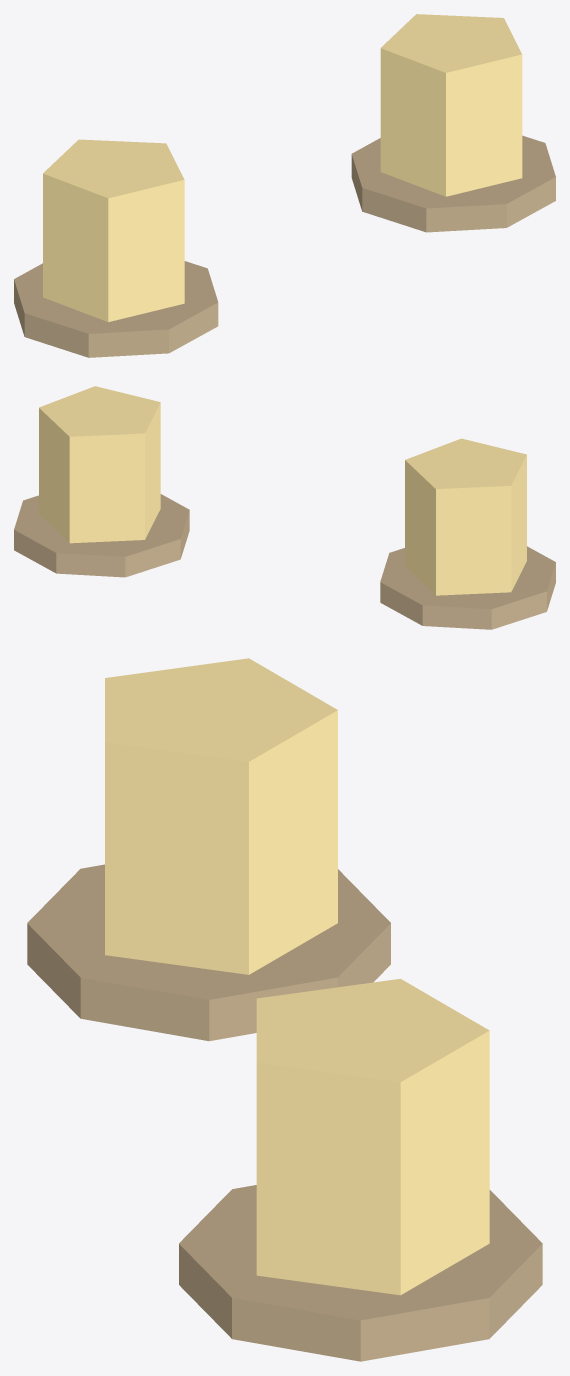
The model's file is SM_BidonFuego_v2_Dos_LOD1.fbx.
The picture shows the model from 3 angles, top to bottom: view 1: azimuth 30°, elevation 25°; view 2: azimuth 150°, elevation 25°; view 3: azimuth 270°, elevation 25°; orthographic projection. The views are drawn at different scales.
Visible parts, largest first — view 1: Emision; view 2: Emision; view 3: Emision.
Part boxes in pixels (x1=…): Emision: x1=14, y1=14, x2=555, y2=357; Emision: x1=14, y1=386, x2=555, y2=629; Emision: x1=27, y1=658, x2=542, y2=1361.
Size of what is drawn, in the model's own units: 1.48 by 0.37 by 0.68.
